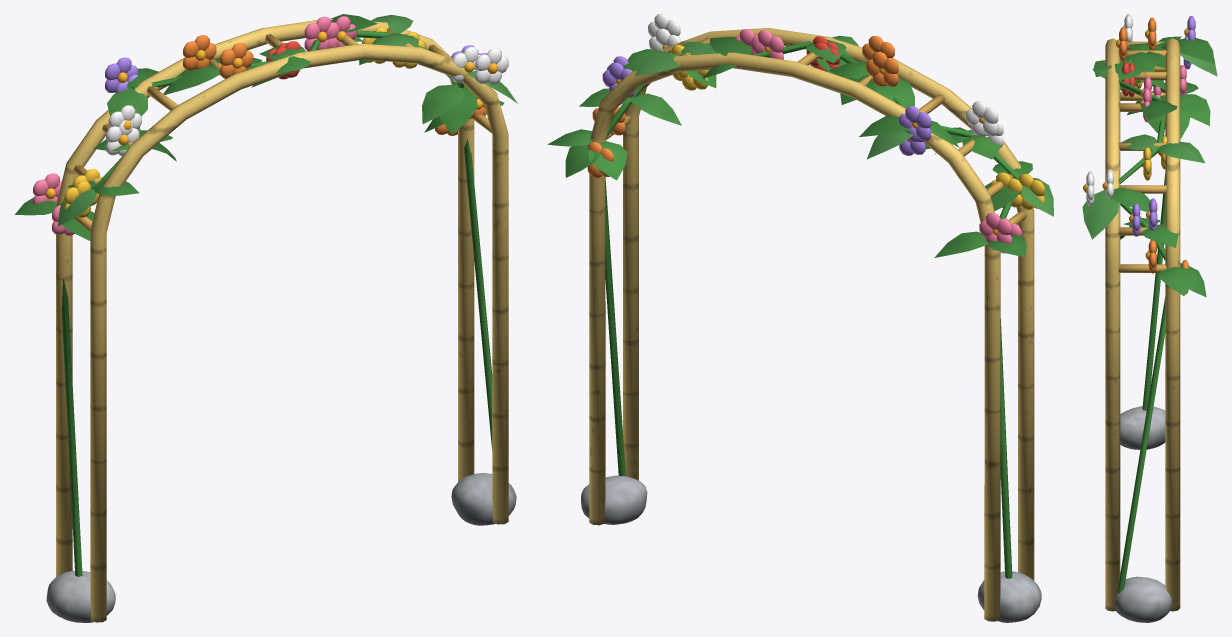
The model's file is flower_arch.glb.
3 renders of one model, left to right at view 1: azimuth 30°, elevation 25°; view 2: azimuth 150°, elevation 25°; view 3: azimuth 270°, elevation 25°, orthographic. The views are drawn at different scales.
Visible parts, largest first — view 1: FlowerArch; view 2: FlowerArch; view 3: FlowerArch.
Boxes of the visible parts, box(x1,y1,x2,y2) form: FlowerArch: box(15, 14, 517, 622); FlowerArch: box(547, 14, 1053, 622); FlowerArch: box(1082, 14, 1217, 622).
Bounding box in the file's own units: 2.31 × 2.48 × 0.6308.
1 material, 1 textured.
